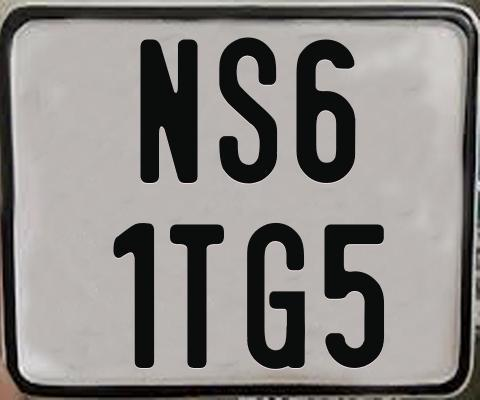1: (113, 221, 154, 369)
5: (323, 223, 385, 371)
6: (296, 38, 359, 183)
G: (247, 221, 306, 373)
N: (140, 39, 201, 189)
S: (216, 36, 275, 185)
T: (167, 221, 224, 371)
